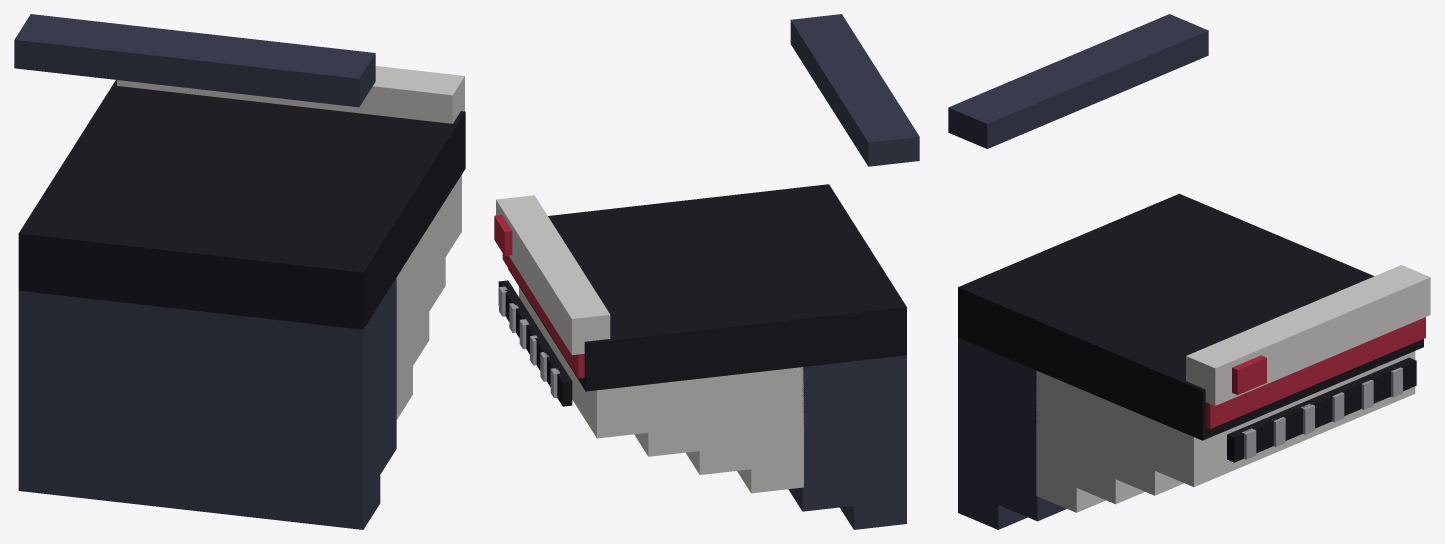
The model's file is canopy.slope1.deck.cut.glb.
3 renders of one model, left to right at view 1: azimuth 30°, elevation 25°; view 2: azimuth 150°, elevation 25°; view 3: azimuth 270°, elevation 25°, orthographic. The views are drawn at different scales.
Visible parts, largest first — view 1: canopy.slope1.deck.cut; view 2: canopy.slope1.deck.cut; view 3: canopy.slope1.deck.cut.
Boxes of the visible parts, box(x1,y1,x2,y2) form: canopy.slope1.deck.cut: box(14, 14, 465, 529); canopy.slope1.deck.cut: box(494, 14, 919, 529); canopy.slope1.deck.cut: box(948, 14, 1430, 529).
Size of the model in its own units: 2.18 by 2 by 2.18.
